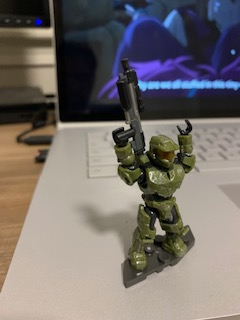chief: (110, 119, 198, 270)
rifle: (112, 56, 148, 159)
spartan: (108, 117, 196, 268)
up: (109, 119, 199, 201)
